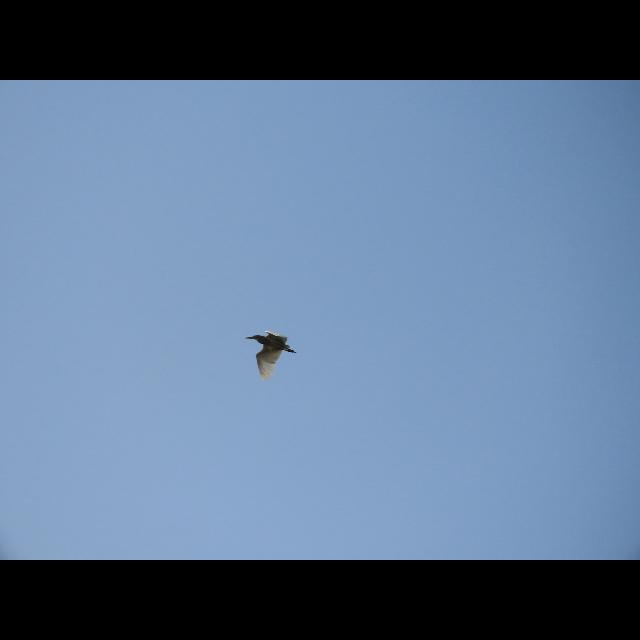heron: (242, 327, 304, 381)
